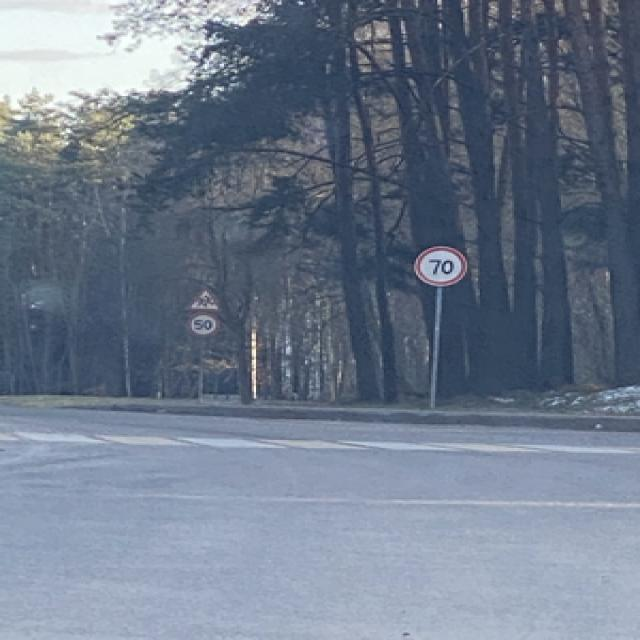speedlimit: (412, 245, 465, 283), (186, 314, 213, 334)
